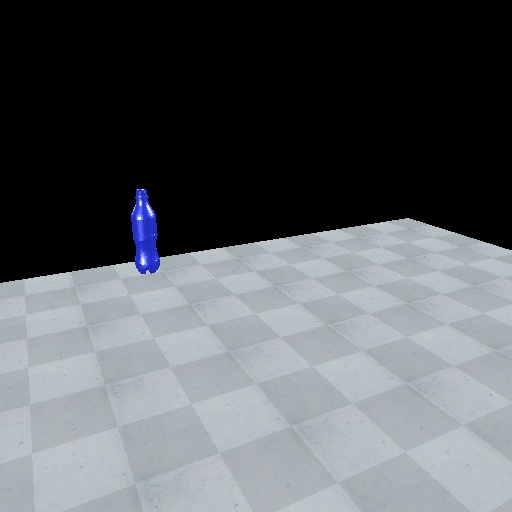bottle: (128, 185, 162, 276)
